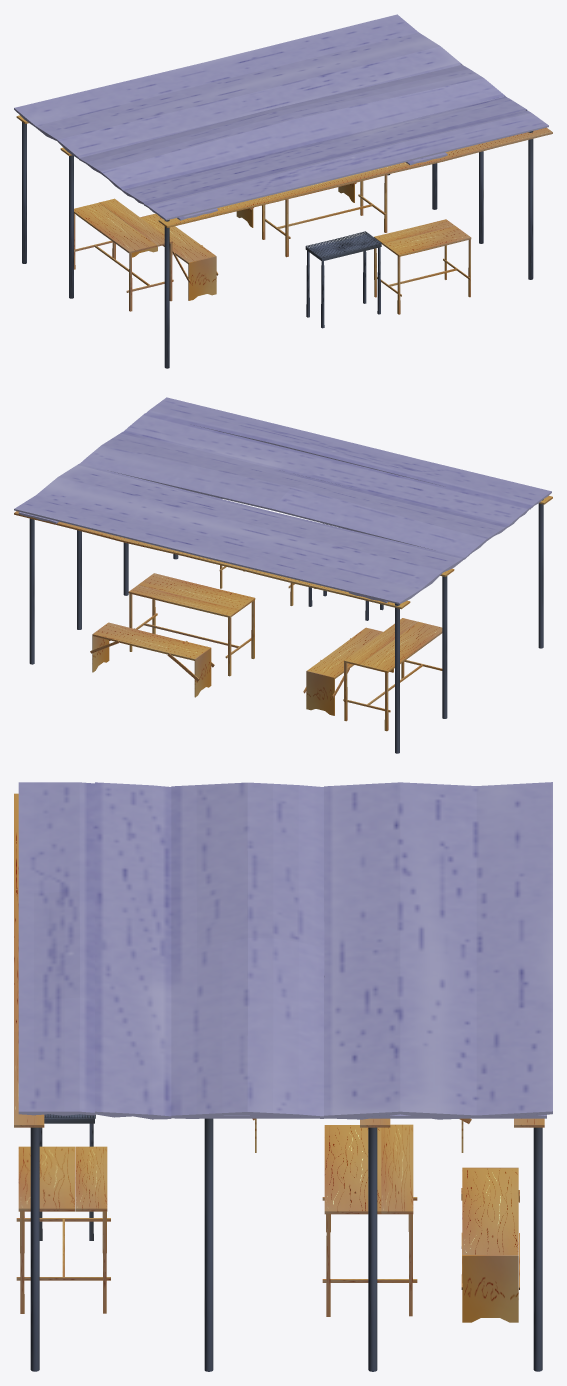
Rendered from Brochette_de_kaya_shop.fbx.
3 views of the same model, one above another, from view 1: azimuth 30°, elevation 25°; view 2: azimuth 150°, elevation 25°; view 3: azimuth 270°, elevation 25° (orthographic). The views are drawn at different scales.
Parts seen in each view (by area): view 1: Cube.036, Cube.039, Cube.037, Cube.038, wood.001, Cube.043, Cube.059, Cube.052, Cube.054, Plane.002, Cube.047, Cylinder.004 (+6 smaller); view 2: Cube.036, Cube.039, Cube.038, Cube.037, Cube.029, wood, Cube.001, Cube.043, Cube.052, Cube.008, Cube.053, Cube.047 (+7 smaller); view 3: Cube.036, Cube.039, Cube.038, Cube.037, Cube.029, Cube.001, Cube.031, Cube.059, Cube.008, Cylinder, Cylinder.006, Cylinder.001 (+3 smaller).
Part boxes in pixels (box(x1,y1,x2,y2)): Cube.036: box(14, 14, 462, 158); Cube.039: box(79, 65, 505, 190); Cube.037: box(144, 110, 548, 220); Cube.038: box(122, 96, 526, 204); wood.001: box(158, 127, 552, 227); Cube.043: box(74, 202, 156, 253); Cube.059: box(383, 226, 471, 256); Cube.052: box(141, 214, 215, 263); Cube.054: box(188, 256, 216, 300); Plane.002: box(305, 231, 381, 258); Cube.047: box(99, 198, 172, 246); Cylinder.004: box(164, 219, 169, 368); Cube.036: box(14, 463, 464, 604); Cube.039: box(80, 431, 508, 559); Cube.038: box(124, 413, 530, 527); Cube.037: box(145, 397, 551, 509); Cube.029: box(93, 622, 210, 660); wood: box(14, 511, 410, 609); Cube.001: box(138, 573, 255, 610); Cube.043: box(360, 621, 442, 672); Cube.052: box(307, 628, 382, 678); Cube.008: box(128, 585, 239, 617); Cube.053: box(306, 671, 334, 715); Cube.047: box(344, 618, 417, 665); Cube.036: box(324, 782, 552, 1119); Cube.039: box(171, 782, 324, 1118); Cube.038: box(95, 782, 171, 1119); Cube.037: box(18, 782, 94, 1115); Cube.029: box(462, 1168, 518, 1254); Cube.001: box(324, 1125, 381, 1214); Cube.031: box(462, 1255, 518, 1322); Cube.059: box(18, 1146, 74, 1211); Cube.008: box(381, 1124, 413, 1214); Cylinder: box(204, 1118, 213, 1371); Cylinder.006: box(368, 1127, 377, 1371); Cylinder.001: box(30, 1127, 39, 1371).
Size of the model in its own units: 4.85 by 1.91 by 3.33.
Materials: 4 (4 with a texture image).
